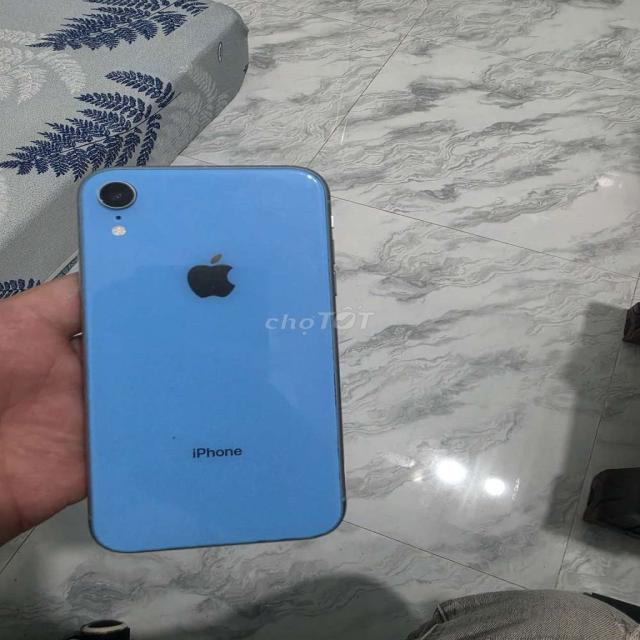gen_x_xs: (68, 155, 360, 554)
